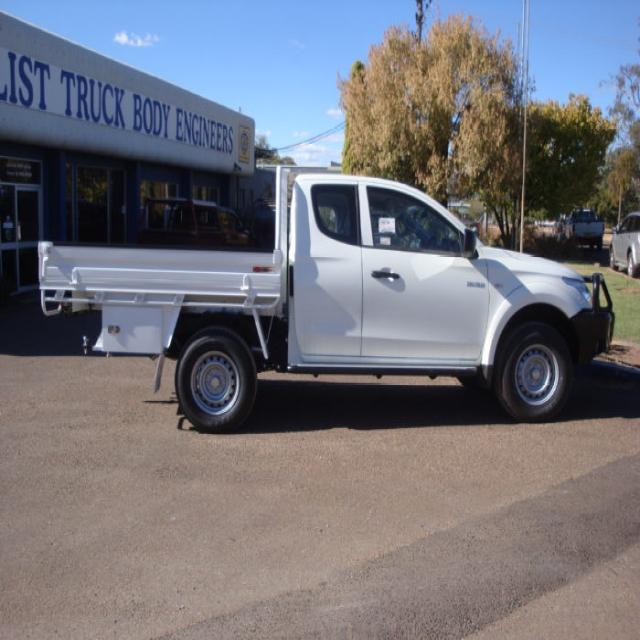light_vehicle: (31, 154, 620, 429)
